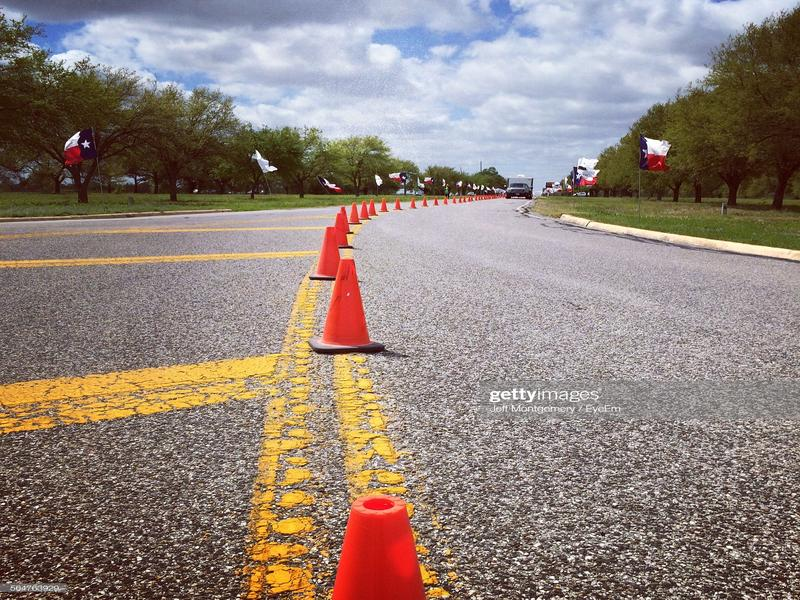Cone1: (308, 258, 385, 354), (308, 226, 349, 279), (347, 203, 362, 224), (359, 200, 372, 220), (368, 199, 378, 216), (379, 198, 389, 213), (393, 198, 403, 210), (409, 198, 417, 209), (422, 197, 429, 207), (433, 198, 440, 206), (444, 197, 448, 204), (453, 198, 457, 204)
